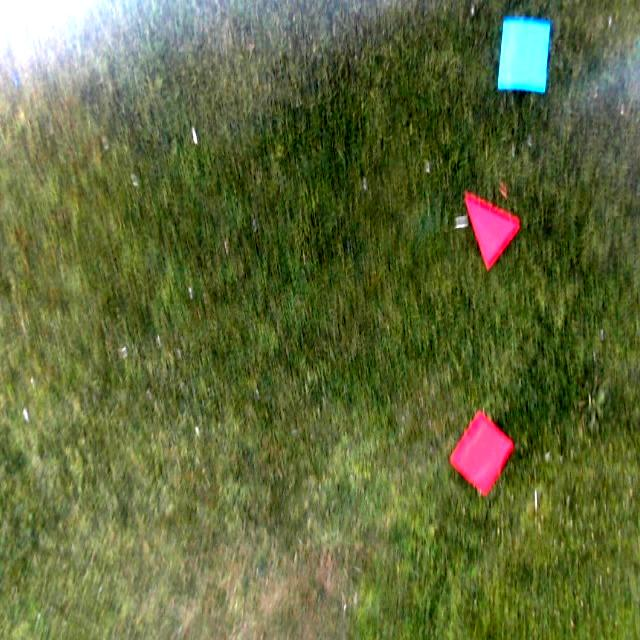blue_square: (498, 18, 550, 96)
red_square: (449, 409, 514, 498)
red_triangle: (463, 190, 519, 272)
